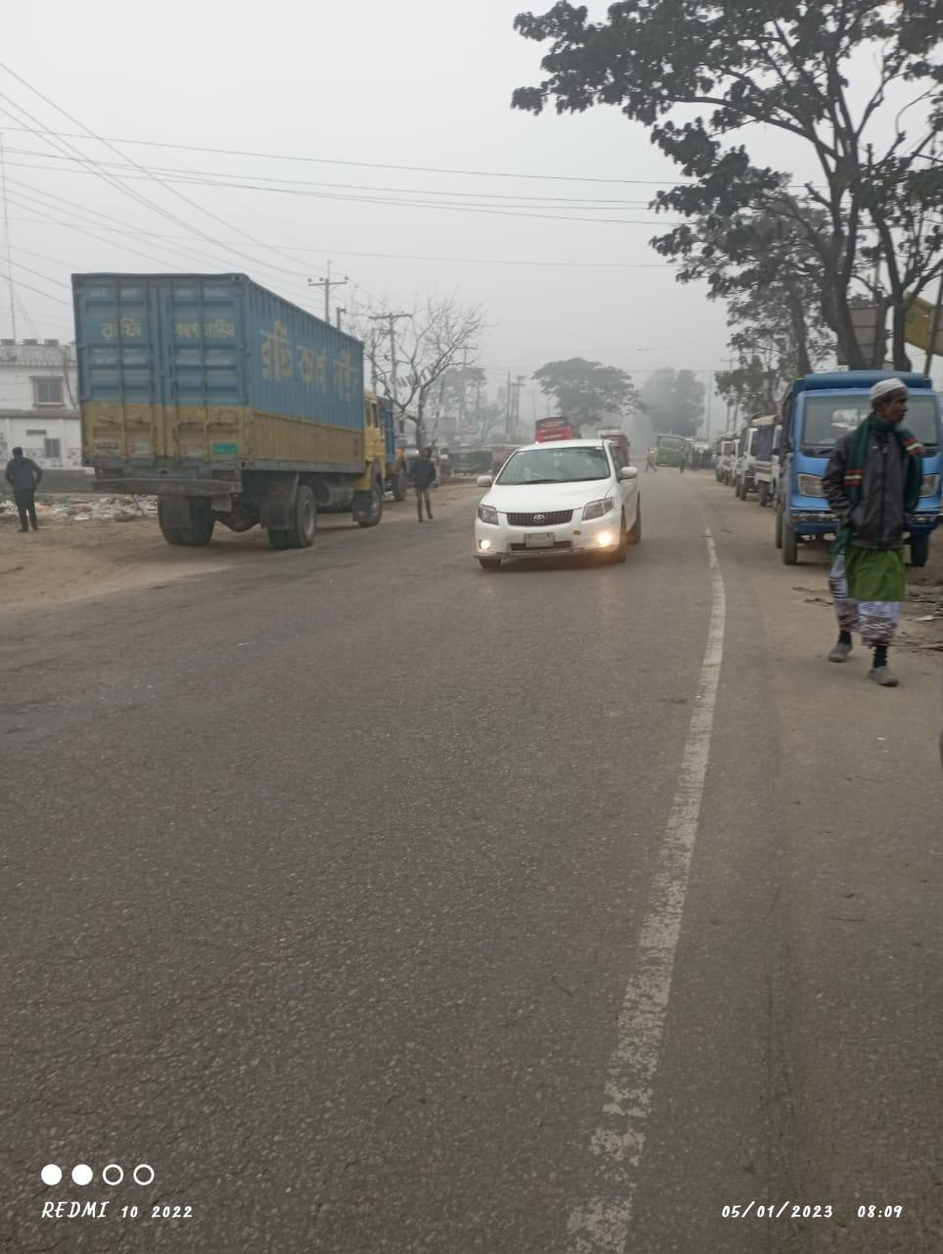Car: (459, 436, 660, 573)
Truck: (63, 265, 394, 546), (765, 363, 942, 581)
